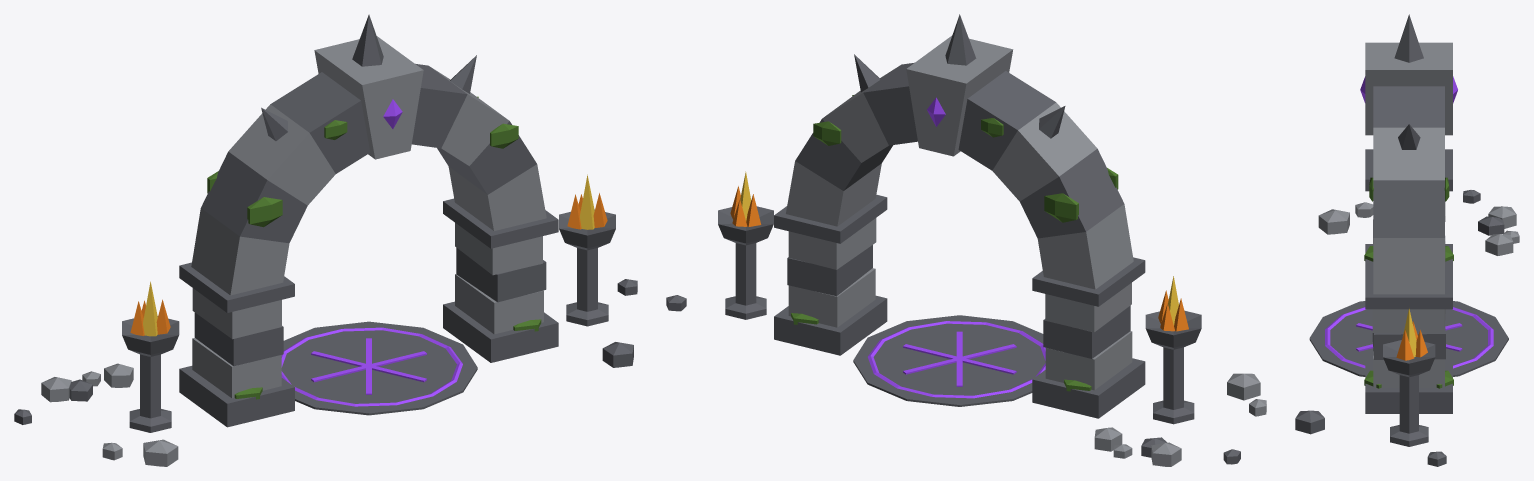
File: SpawnArch.fbx
The picture shows the model from 3 angles, left to right: view 1: azimuth 30°, elevation 25°; view 2: azimuth 150°, elevation 25°; view 3: azimuth 270°, elevation 25°; orthographic projection. The views are drawn at different scales.
Visible parts, largest first — view 1: SpawnArch; view 2: SpawnArch; view 3: SpawnArch.
Part boxes in pixels (x1=…): SpawnArch: x1=14, y1=14, x2=637, y2=466; SpawnArch: x1=666, y1=14, x2=1266, y2=466; SpawnArch: x1=1295, y1=14, x2=1519, y2=466.
Size of the model in its own units: 8.01 by 4.59 by 2.82.
